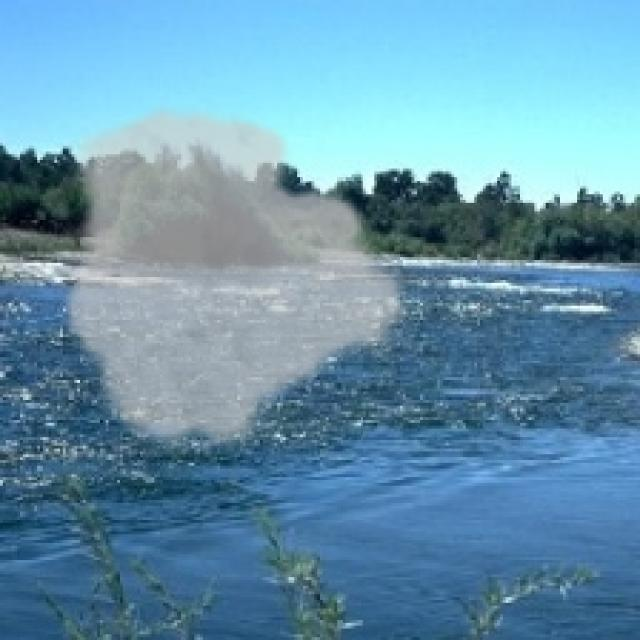Smoke: (60, 102, 417, 458)
